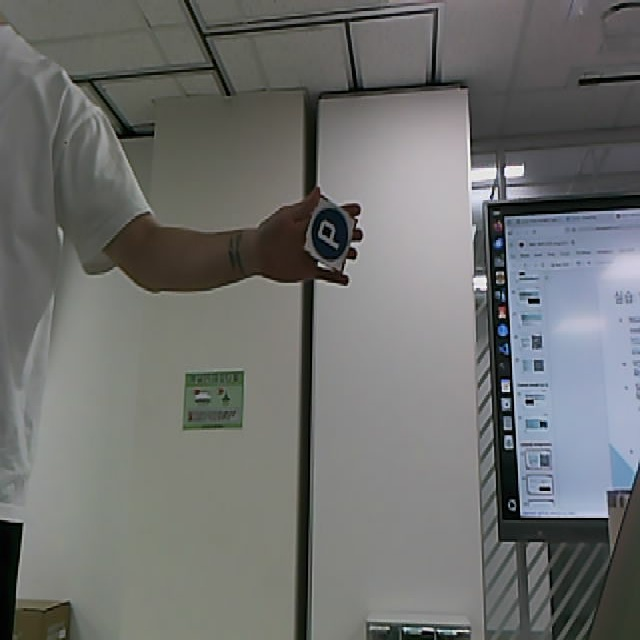parking: (302, 193, 357, 273)
